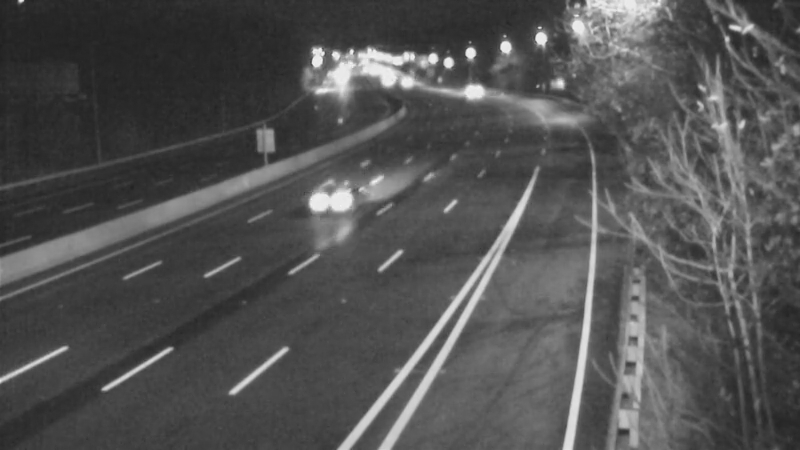vehicle: (296, 160, 376, 240), (379, 59, 429, 109), (445, 65, 495, 115)
